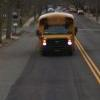buses: (35, 12, 79, 57)
